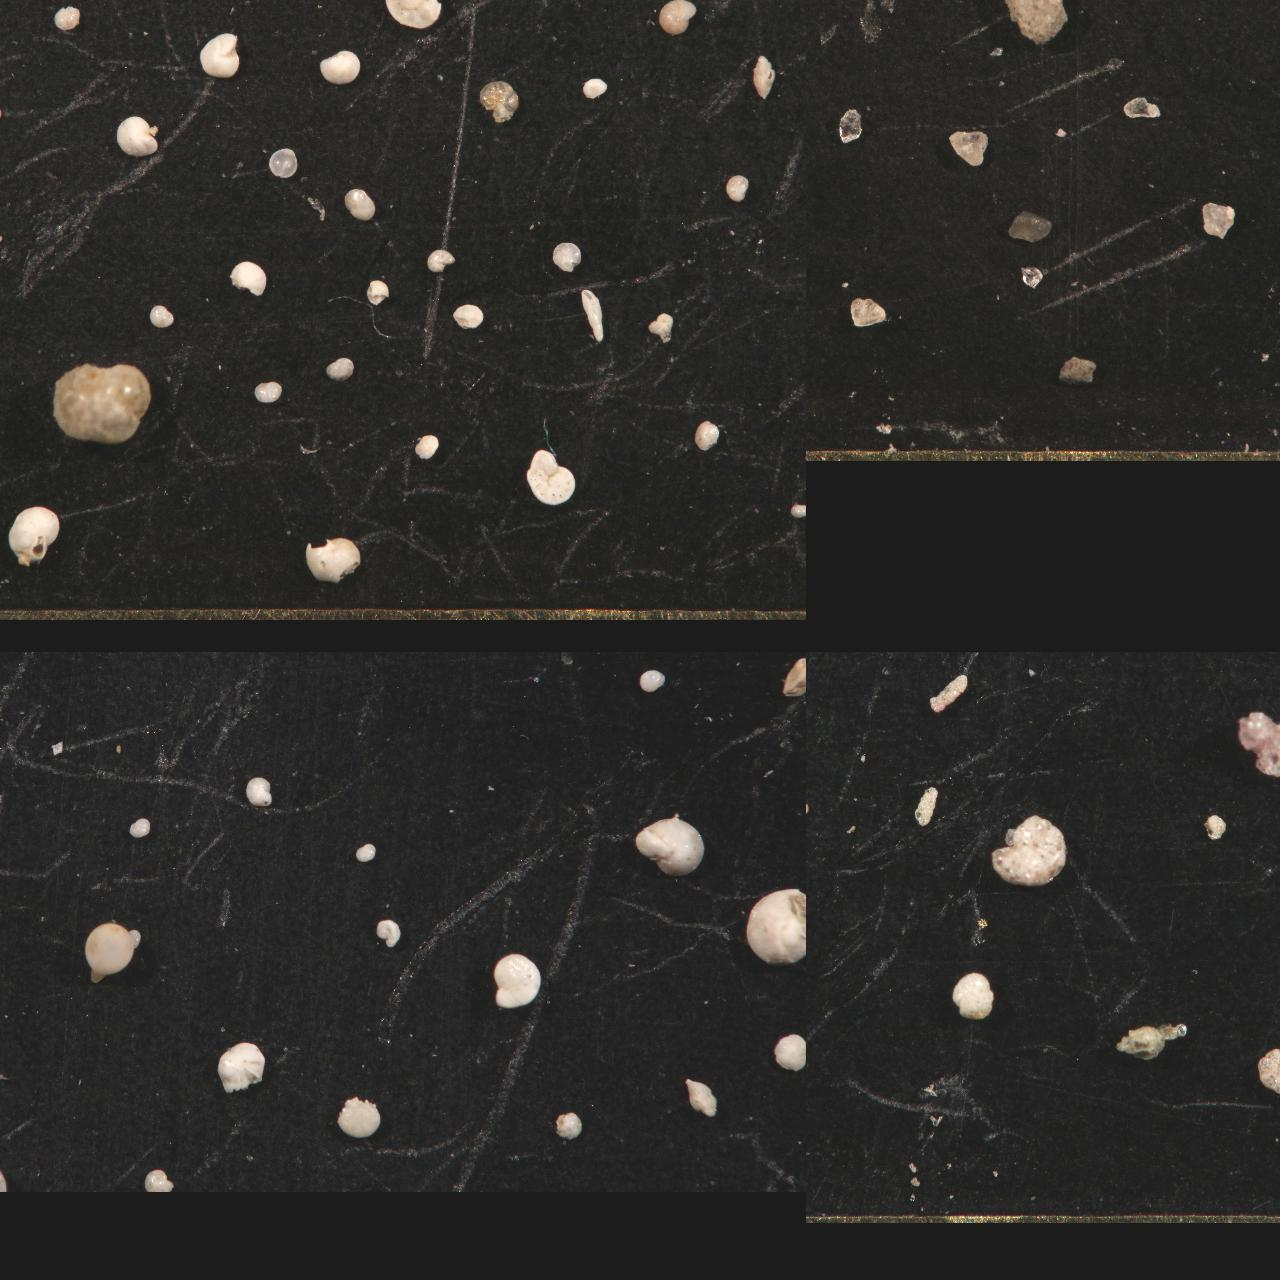Sediment: (806, 171, 858, 302), (992, 0, 1070, 54), (806, 114, 844, 185), (806, 6, 849, 57), (1167, 0, 1223, 35), (806, 25, 835, 83), (843, 0, 891, 34), (947, 130, 990, 168), (1006, 210, 1053, 244), (964, 0, 1033, 22), (806, 305, 831, 367), (1198, 202, 1235, 240), (1054, 354, 1096, 387), (847, 295, 888, 328), (806, 0, 844, 34), (806, 257, 828, 316), (806, 88, 824, 145), (806, 0, 836, 32), (806, 120, 833, 154), (1123, 96, 1162, 120), (859, 0, 892, 26), (837, 109, 862, 143), (917, 0, 961, 19), (806, 404, 824, 448), (806, 266, 825, 304), (1245, 0, 1280, 20), (1017, 266, 1042, 291), (1046, 0, 1087, 14), (806, 0, 829, 25), (806, 0, 831, 22), (806, 33, 821, 72), (806, 0, 829, 20), (806, 0, 824, 22), (806, 0, 829, 18), (806, 0, 824, 19), (806, 0, 824, 18), (806, 0, 823, 12), (806, 0, 821, 13), (806, 0, 818, 14)
agglutinated: (806, 825, 899, 898), (988, 813, 1065, 886), (806, 1017, 851, 1136), (1234, 712, 1280, 775), (1112, 1023, 1189, 1058), (949, 972, 995, 1020), (928, 673, 971, 712), (1255, 1049, 1280, 1095), (911, 785, 939, 825), (896, 652, 930, 674), (1200, 813, 1227, 840), (806, 1080, 828, 1110), (1148, 652, 1187, 665), (806, 652, 825, 676), (806, 652, 826, 669), (806, 939, 821, 964), (806, 652, 829, 667), (859, 652, 883, 666), (1199, 652, 1220, 666), (806, 652, 821, 672), (972, 652, 995, 663), (806, 742, 817, 767), (1046, 652, 1073, 660), (806, 797, 816, 818), (806, 724, 817, 740), (806, 652, 818, 663), (806, 652, 818, 662)
calcareous: (49, 363, 149, 447), (741, 888, 806, 966), (632, 816, 707, 878), (80, 919, 143, 987), (5, 506, 63, 568), (491, 949, 542, 1010), (524, 450, 577, 505), (301, 536, 361, 583), (213, 1041, 265, 1092), (113, 115, 159, 159), (335, 1095, 381, 1139), (197, 33, 240, 80), (476, 80, 518, 124), (383, 0, 443, 29), (315, 49, 361, 84), (682, 1076, 720, 1117), (501, 652, 559, 678), (227, 260, 267, 297), (578, 288, 604, 343), (655, 0, 694, 35), (771, 1033, 806, 1071), (749, 54, 777, 100), (779, 652, 806, 699), (342, 189, 375, 222), (551, 1111, 585, 1143), (0, 145, 26, 186), (0, 207, 28, 245), (266, 147, 298, 179), (549, 241, 581, 273), (241, 777, 275, 806), (692, 420, 721, 452), (645, 313, 675, 343), (450, 304, 484, 331), (152, 652, 192, 674), (372, 919, 402, 947), (0, 309, 20, 350), (141, 1167, 175, 1191), (0, 828, 21, 865), (324, 356, 354, 382), (0, 740, 23, 772), (0, 15, 22, 49), (350, 652, 390, 670), (148, 302, 175, 329), (414, 434, 441, 461), (723, 173, 749, 202), (52, 6, 81, 30), (424, 247, 454, 272), (0, 1082, 18, 1123), (636, 670, 667, 694), (366, 279, 390, 306), (390, 652, 434, 667), (579, 76, 606, 100), (252, 381, 281, 402), (461, 0, 493, 18), (0, 75, 15, 109), (583, 0, 611, 18), (0, 652, 23, 673), (125, 817, 150, 837), (0, 652, 20, 675), (352, 843, 376, 862), (0, 847, 16, 874), (537, 0, 565, 15), (0, 847, 14, 878), (0, 328, 14, 356), (159, 0, 190, 13), (202, 0, 232, 13), (674, 652, 703, 665), (787, 501, 806, 519), (784, 0, 806, 16), (0, 96, 13, 124), (0, 652, 19, 670), (248, 0, 277, 12), (0, 0, 16, 18), (0, 652, 18, 668), (332, 0, 358, 11), (0, 1047, 11, 1073), (0, 907, 12, 930), (0, 0, 12, 15), (0, 0, 14, 11), (0, 0, 12, 11)
